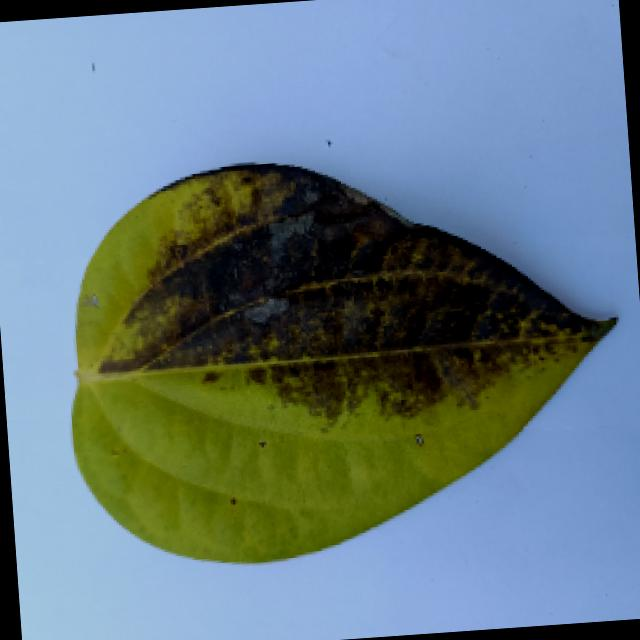slow-decline: (32, 137, 635, 596)
